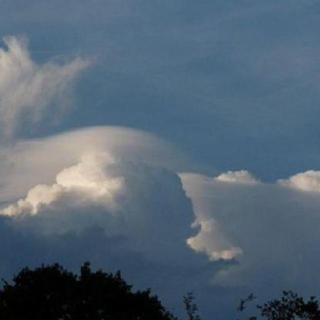Cumulus: (0, 29, 320, 298)
